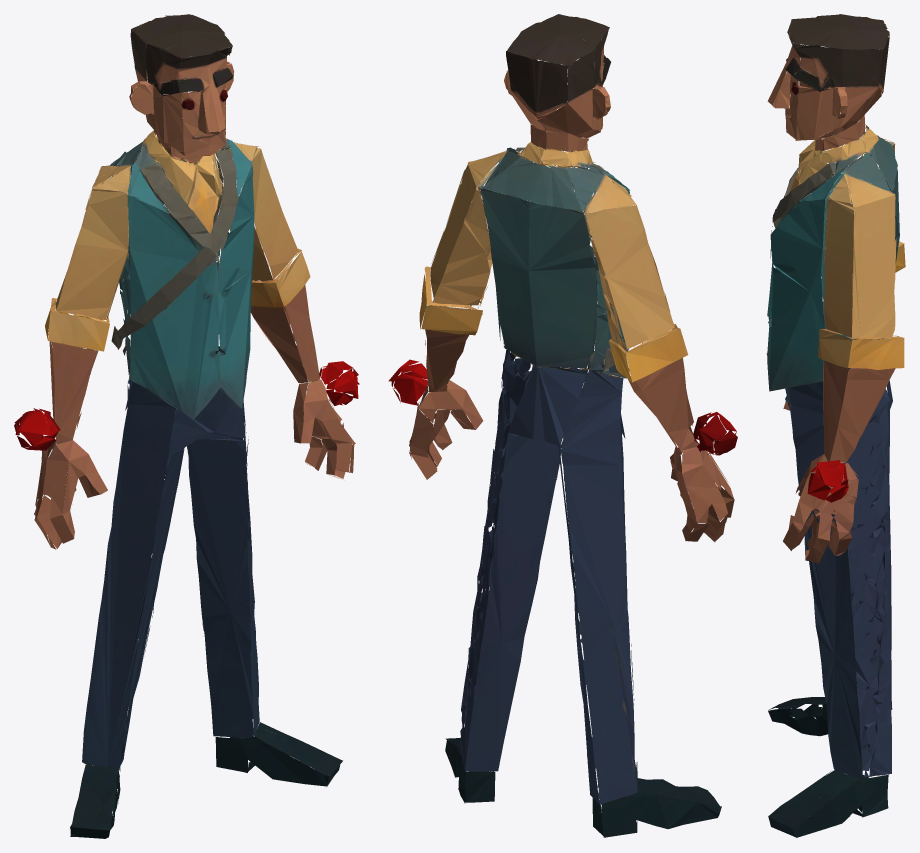
Rendered from habitant.glb.
3 views of the same model, side by side, from view 1: azimuth 30°, elevation 25°; view 2: azimuth 150°, elevation 25°; view 3: azimuth 270°, elevation 25° (orthographic). The views are drawn at different scales.
Parts seen in each view (by area): view 1: world; view 2: world; view 3: world.
Boxes of the visible parts, left/top/right/bottom form: world: left=14, top=14, right=359, bottom=838; world: left=388, top=14, right=737, bottom=837; world: left=766, top=14, right=905, bottom=837.
Bounding box in the file's own units: 0.4723 × 1 × 0.1689.
Materials: 1 (1 with a texture image).
